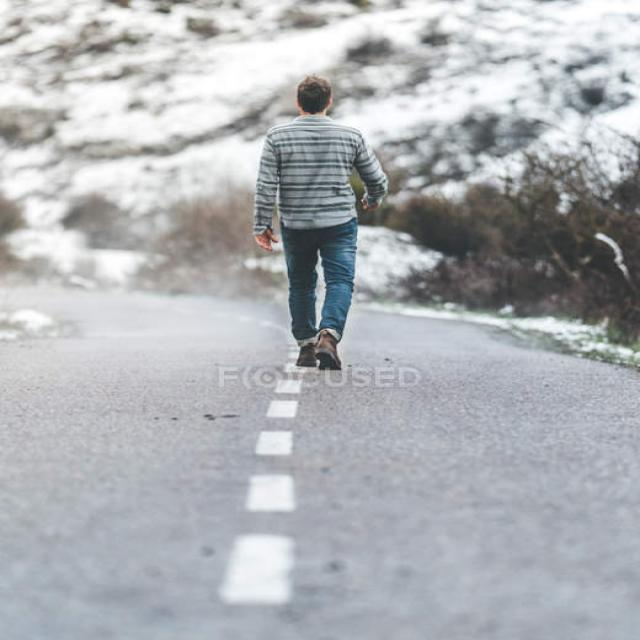Person: (252, 74, 389, 370)
